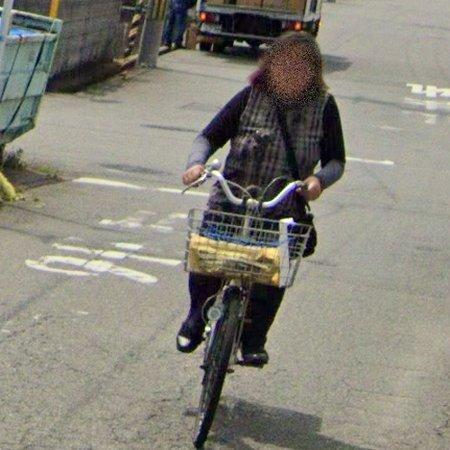bicycles: (185, 170, 313, 450)
